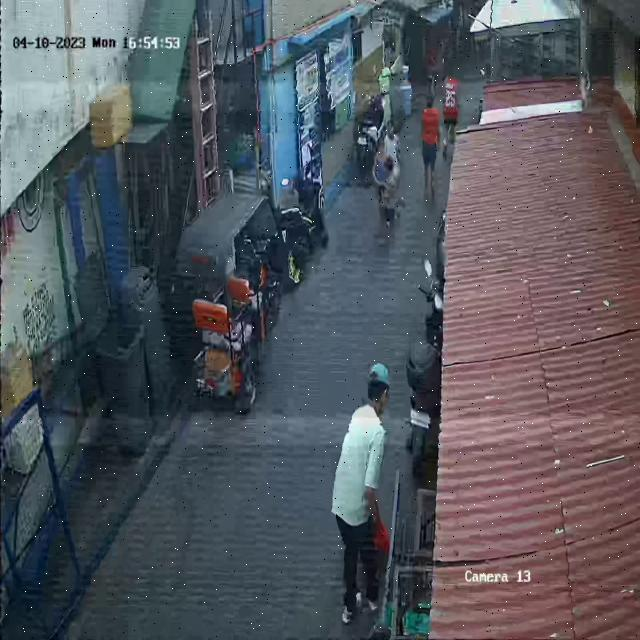human: (332, 361, 391, 624)
